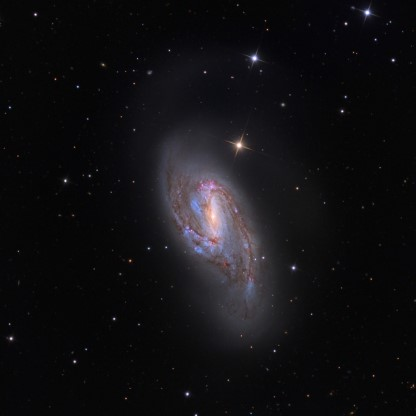Messier 66: (137, 117, 286, 350)
